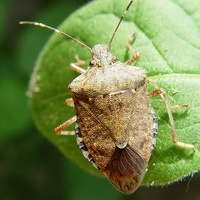insect: (111, 0, 199, 184), (29, 33, 98, 174), (58, 0, 128, 47)
